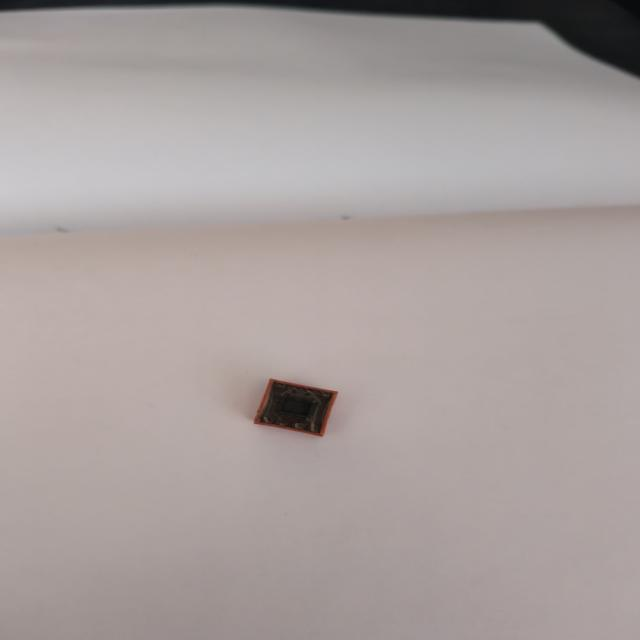switch: (242, 366, 356, 452)
